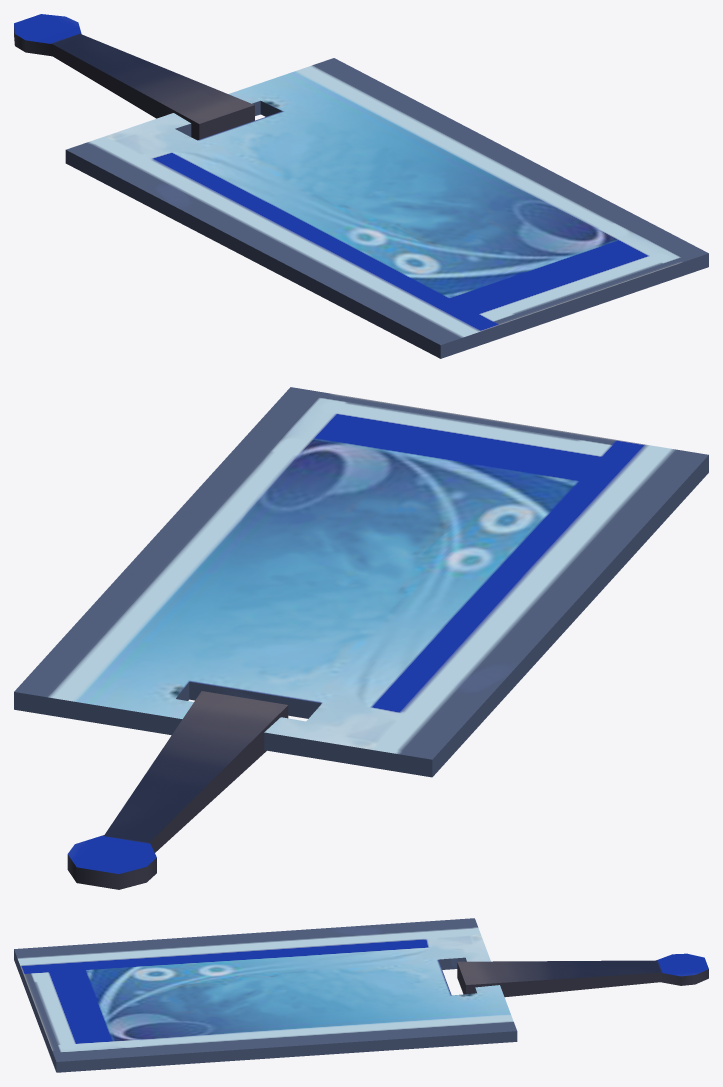
Rendered from G_HuShiZhan_gongzuopai_01.FBX.
3 renders of one model, top to bottom at view 1: azimuth 30°, elevation 25°; view 2: azimuth 150°, elevation 25°; view 3: azimuth 270°, elevation 25°, orthographic. The views are drawn at different scales.
Visible parts, largest first — view 1: HuShiZhan_gongzuopai_03; view 2: HuShiZhan_gongzuopai_03; view 3: HuShiZhan_gongzuopai_03.
Boxes of the visible parts, x1,y1,x2,y2 form: HuShiZhan_gongzuopai_03: (14, 14, 708, 358); HuShiZhan_gongzuopai_03: (14, 387, 708, 889); HuShiZhan_gongzuopai_03: (14, 918, 708, 1072).
Bounding box in the file's own units: 23.98 × 1.23 × 48.95.
